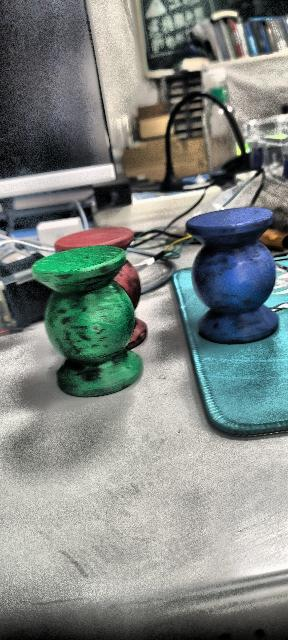blue: (33, 242, 145, 400), (186, 206, 278, 344)
red: (55, 225, 149, 348)
